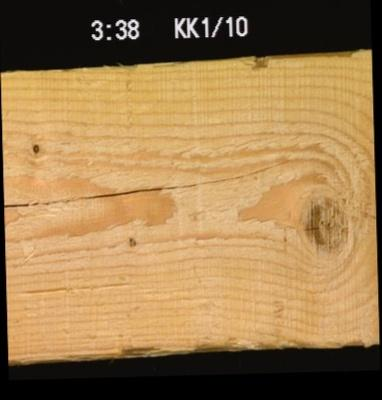dry_knot: (30, 141, 38, 153)
small_knot: (125, 235, 136, 248)
sound_knot: (302, 199, 350, 252)
split: (3, 159, 294, 204)
wave: (64, 331, 379, 356)
